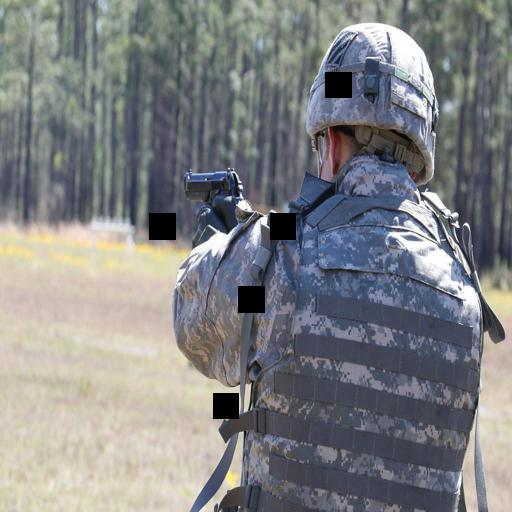Handgun: (177, 160, 243, 212)
